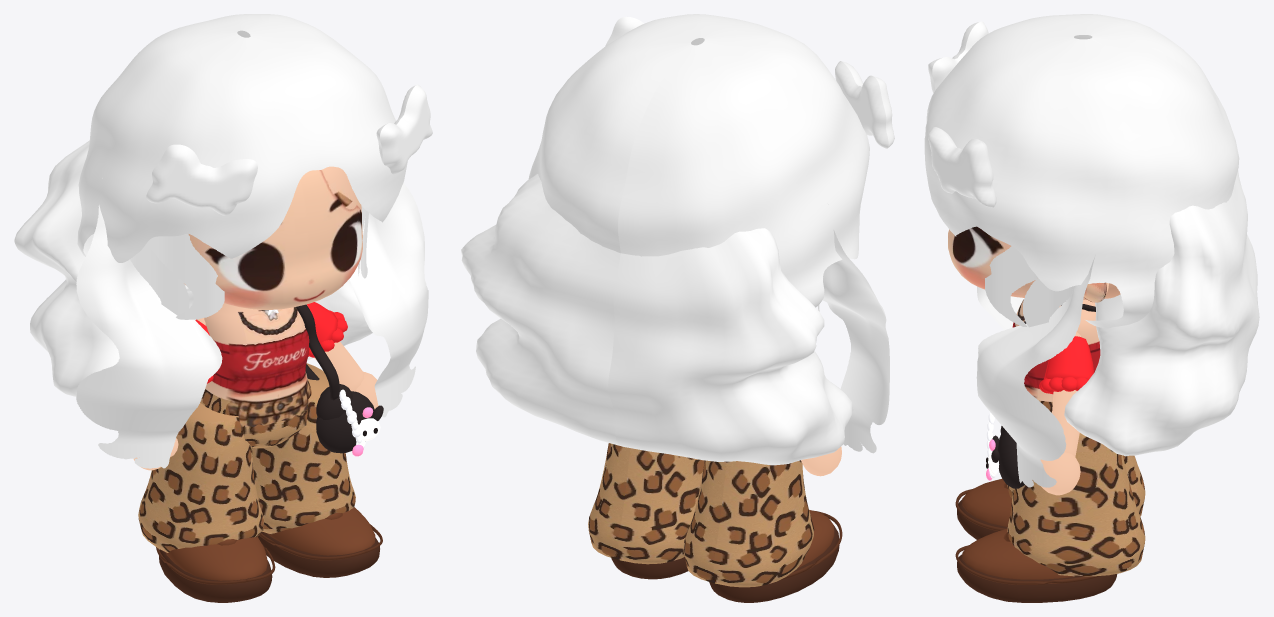
Rendered from anna.glb.
3 renders of one model, left to right at view 1: azimuth 30°, elevation 25°; view 2: azimuth 150°, elevation 25°; view 3: azimuth 270°, elevation 25°, orthographic. The views are drawn at different scales.
Parts seen in each view (by area): view 1: machi_head__hair, machi_head__lock1232_n, machi_head__face, machi_legR__leopard_leg, machi_head__hair_back, machi_body__outfit, machi_head__lock12510_n, machi_legL__leopard_leg, machi_head__clip433_n, machi_body__black, machi_head__lock12185_n, machi_legR__shoe (+11 smaller); view 2: machi_head__hair_back, machi_head__hair, machi_legR__leopard_leg, machi_legL__leopard_leg, machi_head__lock1232_n, machi_legR__sole, machi_body__clip433back_n, machi_legL__sole, machi_legR__shoe, machi_armR__skin, machi_head__clip433_n; view 3: machi_head__hair, machi_head__hair_back, machi_legL__leopard_leg, machi_head__lock12510_n, machi_head__clip1951_n, machi_legL__sole, machi_legL__shoe, machi_head__face, machi_head__lock12185.002_n, machi_armL__red, machi_armL__skin, machi_legR__shoe (+8 smaller).
Boxes of the visible parts, <box> form: machi_head__hair: <box>77,14,407,291</box>; machi_head__lock1232_n: <box>76,178,222,468</box>; machi_head__face: <box>184,166,362,309</box>; machi_legR__leopard_leg: <box>138,402,264,552</box>; machi_head__hair_back: <box>14,140,372,396</box>; machi_body__outfit: <box>197,303,311,441</box>; machi_head__lock12510_n: <box>349,182,428,417</box>; machi_legL__leopard_leg: <box>252,363,355,534</box>; machi_head__clip433_n: <box>146,144,257,215</box>; machi_body__black: <box>296,304,383,453</box>; machi_head__lock12185_n: <box>147,233,224,319</box>; machi_legR__shoe: <box>165,537,267,580</box>; machi_head__hair_back: <box>461,173,853,465</box>; machi_head__hair: <box>528,14,869,307</box>; machi_legR__leopard_leg: <box>683,460,814,587</box>; machi_legL__leopard_leg: <box>588,443,704,564</box>; machi_head__lock1232_n: <box>822,204,889,453</box>; machi_legR__sole: <box>709,526,839,602</box>; machi_body__clip433back_n: <box>835,61,888,148</box>; machi_legL__sole: <box>611,557,688,579</box>; machi_legR__shoe: <box>797,510,834,568</box>; machi_armR__skin: <box>801,446,841,476</box>; machi_head__clip433_n: <box>842,61,894,147</box>; machi_head__hair: <box>924,14,1239,328</box>; machi_head__hair_back: <box>1064,170,1259,456</box>; machi_legL__leopard_leg: <box>1007,433,1145,576</box>; machi_head__lock12510_n: <box>976,255,1095,487</box>; machi_head__clip1951_n: <box>928,127,994,207</box>; machi_legL__sole: <box>957,554,1117,602</box>; machi_legL__shoe: <box>962,528,1074,579</box>; machi_head__face: <box>948,226,1120,299</box>; machi_head__lock12185.002_n: <box>985,246,1037,326</box>; machi_armL__red: <box>1039,336,1093,394</box>; machi_armL__skin: <box>1040,331,1080,495</box>; machi_legR__shoe: <box>962,479,1011,526</box>.
Size of the model in its own units: 4.26 by 5.95 by 3.45.
28 materials, 18 textured.
